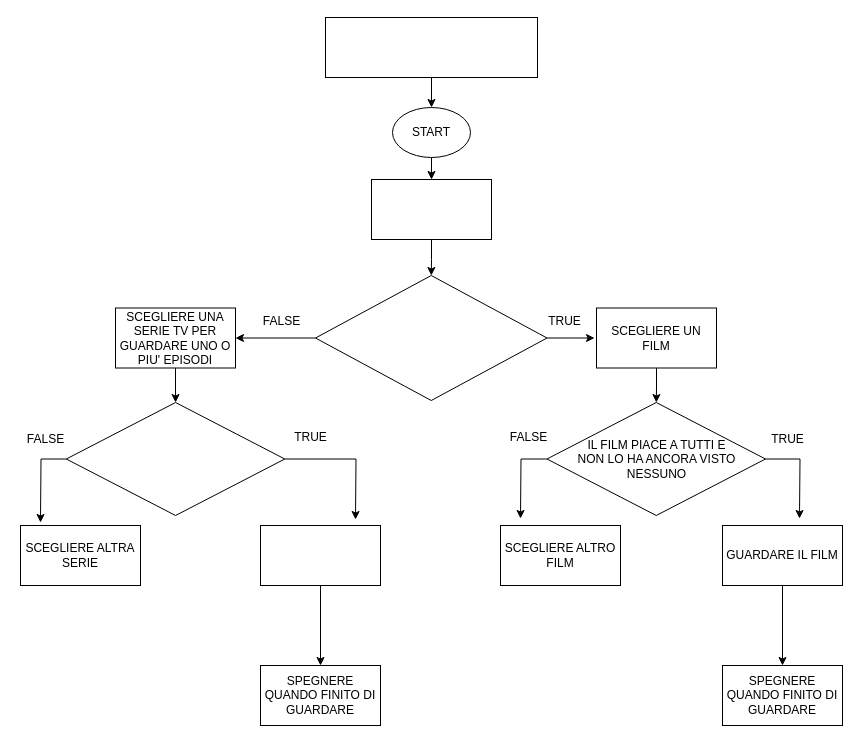
Image size: 860x743. Some labels were removed from this diagram. The shapes that lost their labels are listed below. From the top down, each one's centre as x and y in pixels, then its label:
[431,47]: COSA GUARDARE SU NETFLIX?
[431,209]: APRIRE NETFLIX
[430,337]: HO ABBASTANZA TEMPO A DISPOSIZIONE E POCO SONNO
[175,459]: LA SERIE PIACE A TUTTI E NON L' HA ANCORA VISTA NESSUNO
[320,555]: GUARDARE LA SERIE
